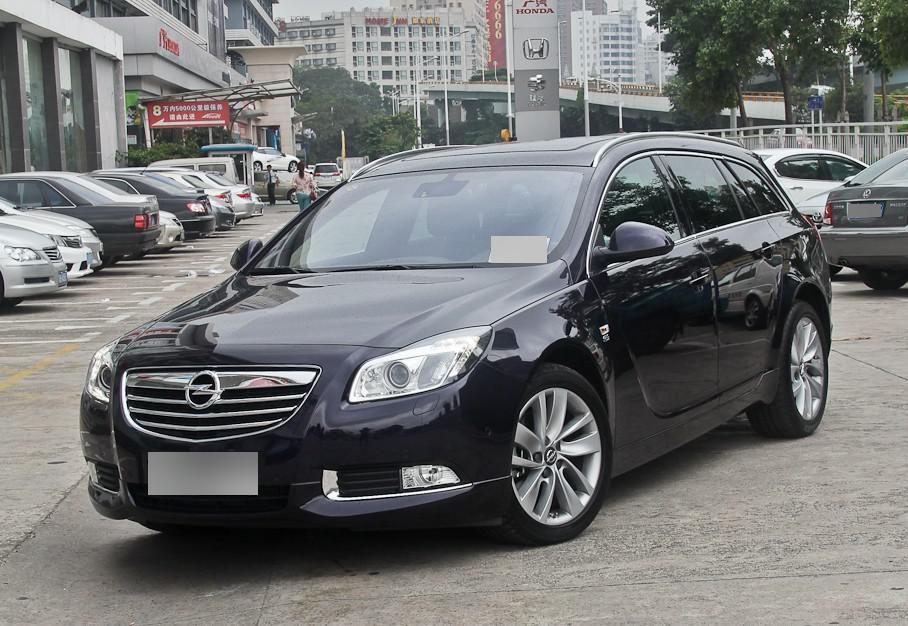Wagon: (79, 131, 831, 546)
